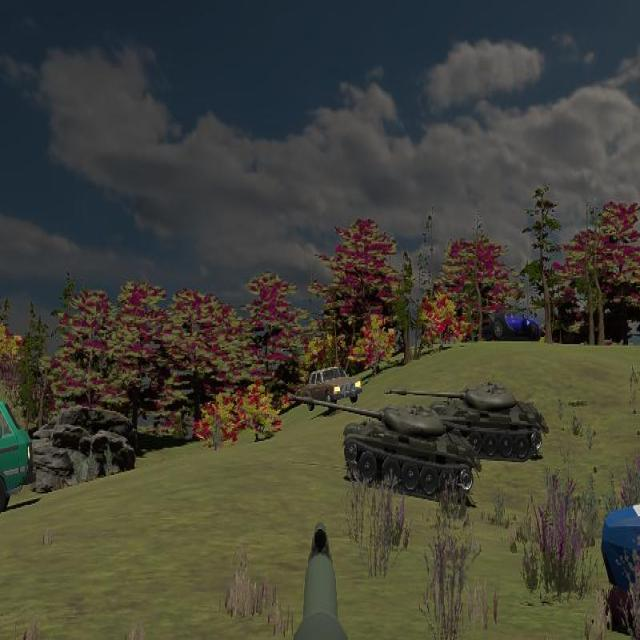Tank: (306, 400, 479, 503), (387, 379, 548, 462)
car: (0, 388, 34, 523), (293, 367, 363, 411), (477, 307, 545, 343)
